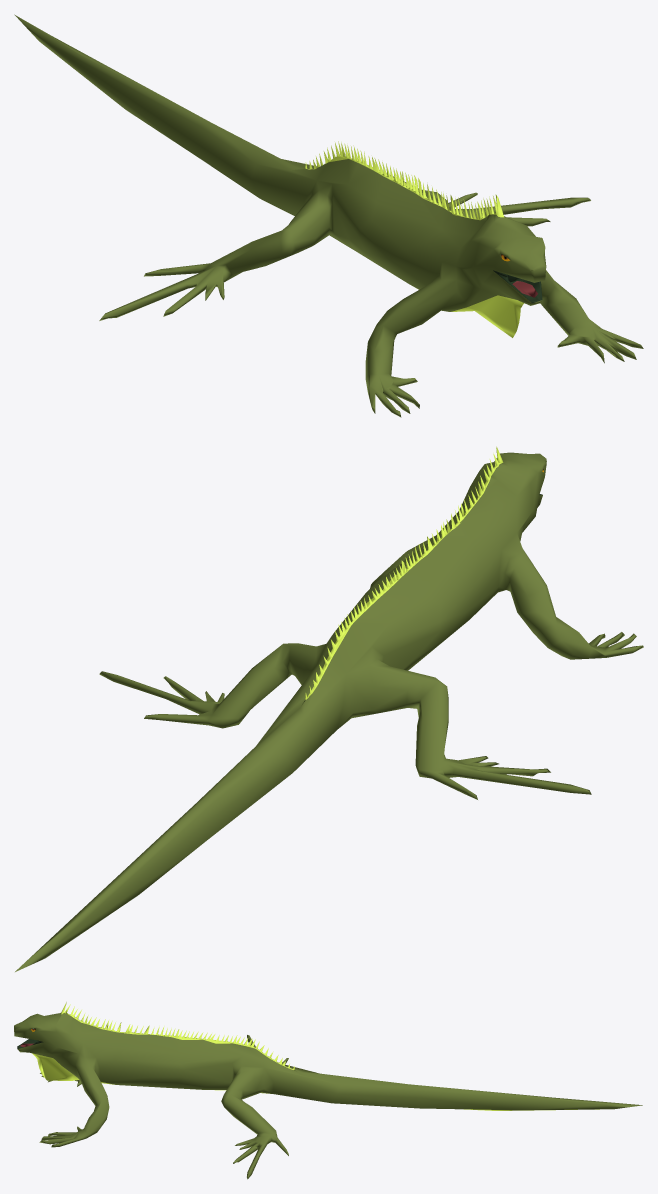
The picture shows the model from 3 angles, top to bottom: view 1: azimuth 30°, elevation 25°; view 2: azimuth 150°, elevation 25°; view 3: azimuth 270°, elevation 25°; orthographic projection. The views are drawn at different scales.
Visible parts, largest first — view 1: Iguana; view 2: Iguana; view 3: Iguana.
Part boxes in pixels (x1,y1,x2,y2): Iguana: [14, 14, 643, 417]; Iguana: [15, 446, 643, 971]; Iguana: [14, 1002, 642, 1179].
Size of what is drawn, in the model's own units: 1.4 by 0.4959 by 2.58.
Materials: 1 (1 with a texture image).
